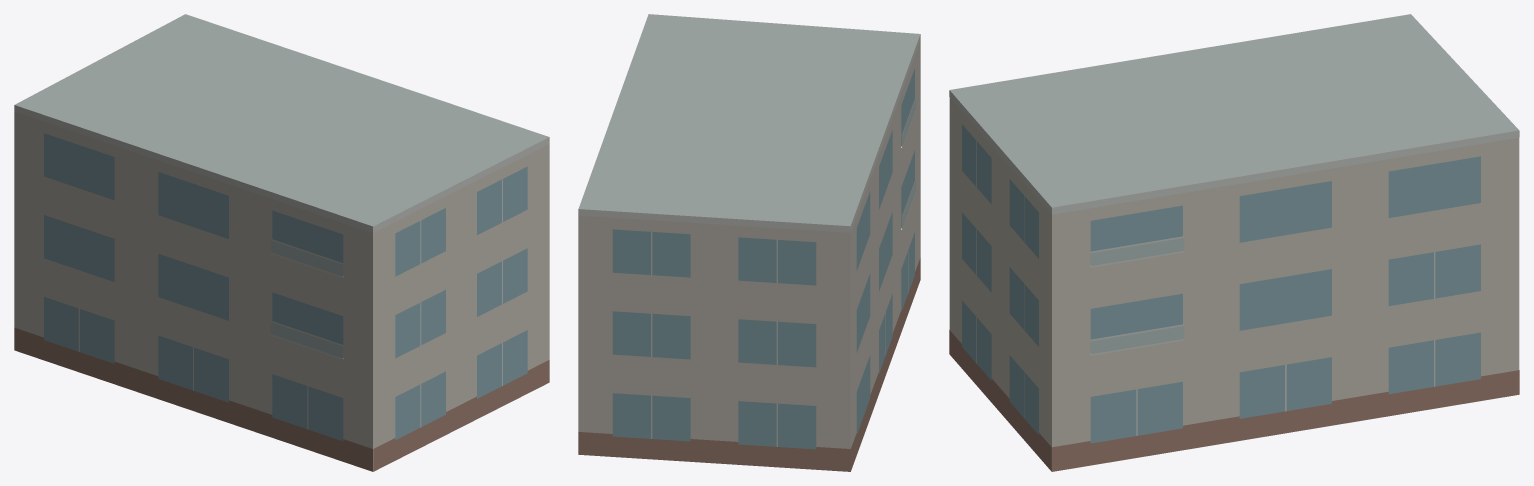
Rendered from survey-upis-32698461.glb.
3 renders of one model, left to right at view 1: azimuth 30°, elevation 25°; view 2: azimuth 150°, elevation 25°; view 3: azimuth 270°, elevation 25°, orthographic. The views are drawn at different scales.
Visible parts, largest first — view 1: survey-upis-32698461.tmp; view 2: survey-upis-32698461.tmp; view 3: survey-upis-32698461.tmp.
Part boxes in pixels (left/top/right/bottom): survey-upis-32698461.tmp: left=14, top=14, right=549, bottom=471; survey-upis-32698461.tmp: left=578, top=14, right=920, bottom=471; survey-upis-32698461.tmp: left=949, top=14, right=1519, bottom=471.
Size of the model in its own units: 14.39 by 9.15 by 17.9.
